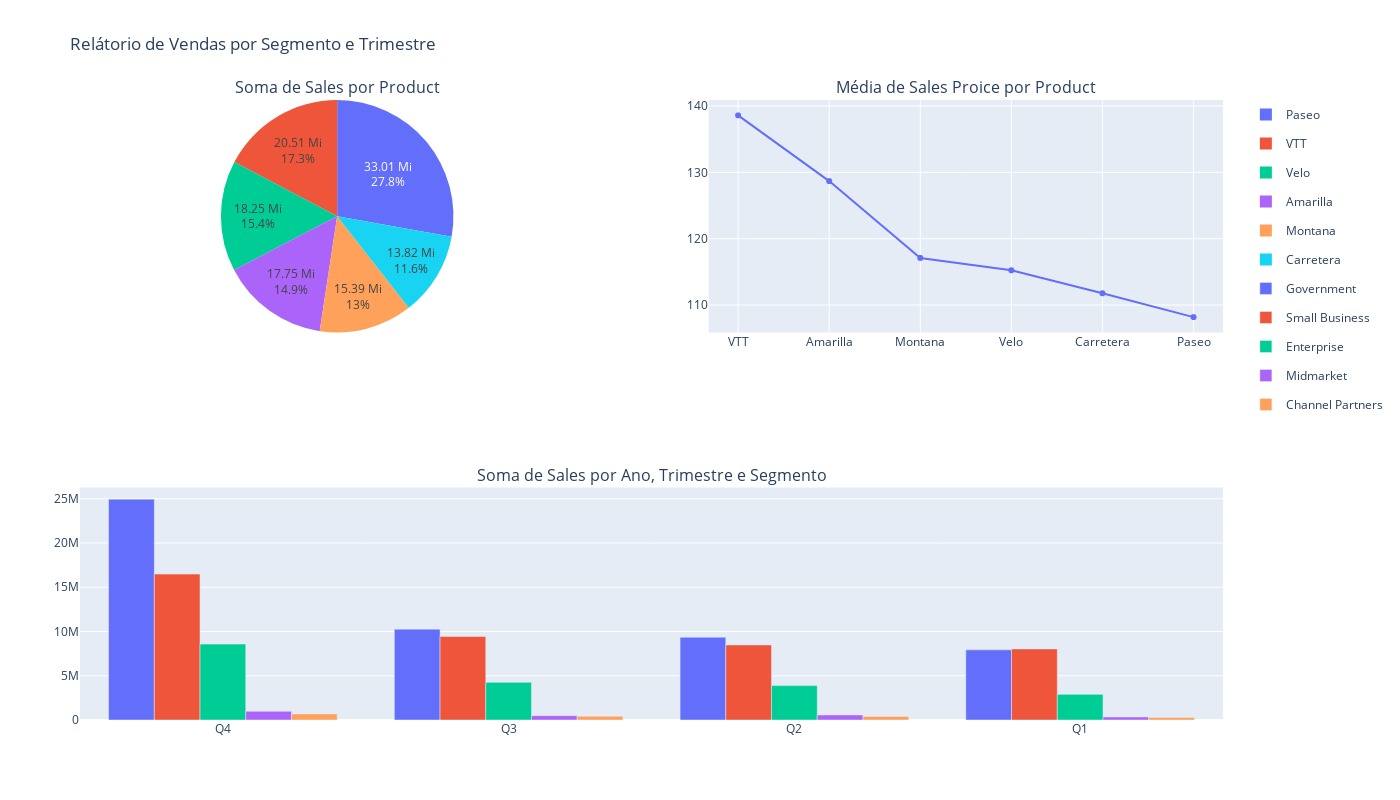

This screenshot's page, from the dashboard's own definition file:
{"tool":"powerbi","page":{"name":"Página 1","canvas":[1280,720],"ordinal":0},"visuals":[{"type":"pieChart","title":"Vendas por Produto","fields":{"Y":["Sum(financials. Sales)"],"Category":["financials.Product"]},"box":[280,80,464,328],"z":0,"group":"g1"},{"type":"areaChart","title":"Média do Preço de Venda por Produto","fields":{"Category":["financials.Product"],"Y":["Avg(financials.Sale Price)"]},"box":[744,80,536,328],"z":1000,"group":"g1"},{"type":"clusteredColumnChart","title":"Vendas por Ano, Trimestre e Segmento","fields":{"Y":["Sum(financials. Sales)"],"Category":["financials.Date.Variation.Hierarquia de datas.Ano","financials.Date.Variation.Hierarquia de datas.Trimestre"],"Series":["financials.Segment"]},"box":[280,408,1000,312],"z":2000,"group":"g1"},{"type":"slicer","fields":{"Values":["financials.Date.Variation.Hierarquia de datas.Ano","financials.Date.Variation.Hierarquia de datas.Trimestre"]},"box":[0,248,280,472],"z":3000,"group":"g1"},{"type":"textbox","box":[0,0,1280,80],"z":4000,"group":"g1"},{"type":"slicer","fields":{"Values":["financials.Country"]},"box":[0,80,280,168],"z":5000,"group":"g1"},{"type":"group","id":"g1","title":"Grupo 1","box":[0,0,1280,720],"z":5001},{"type":"actionButton","box":[24,16,96,40],"z":5002}]}

Visuals, with their boxes in screenshot pixels (x1, y1, x2, y2), scaled from the page's 1280x720 canvas onto the 1400x800 screenshot:
"Vendas por Produto" pieChart: <bbox>306, 89, 814, 453</bbox>
"Média do Preço de Venda por Produto" areaChart: <bbox>814, 89, 1399, 453</bbox>
"Vendas por Ano, Trimestre e Segmento" clusteredColumnChart: <bbox>306, 453, 1399, 799</bbox>
slicer - financials.Date.Variation.Hierarquia de datas.Ano x financials.Date.Variation.Hierarquia de datas.Trimestre: <bbox>0, 276, 306, 799</bbox>
textbox: <bbox>0, 0, 1399, 89</bbox>
slicer - financials.Country: <bbox>0, 89, 306, 276</bbox>
"Grupo 1" group: <bbox>0, 0, 1399, 799</bbox>
actionButton: <bbox>26, 18, 131, 62</bbox>
